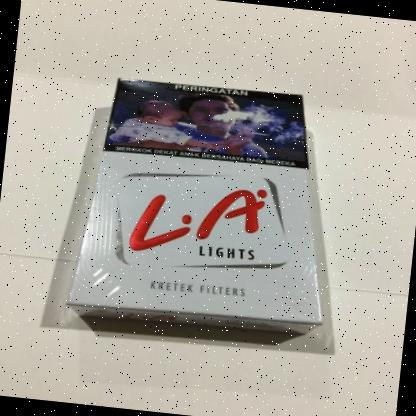bungkus rokok: (53, 55, 356, 354)
